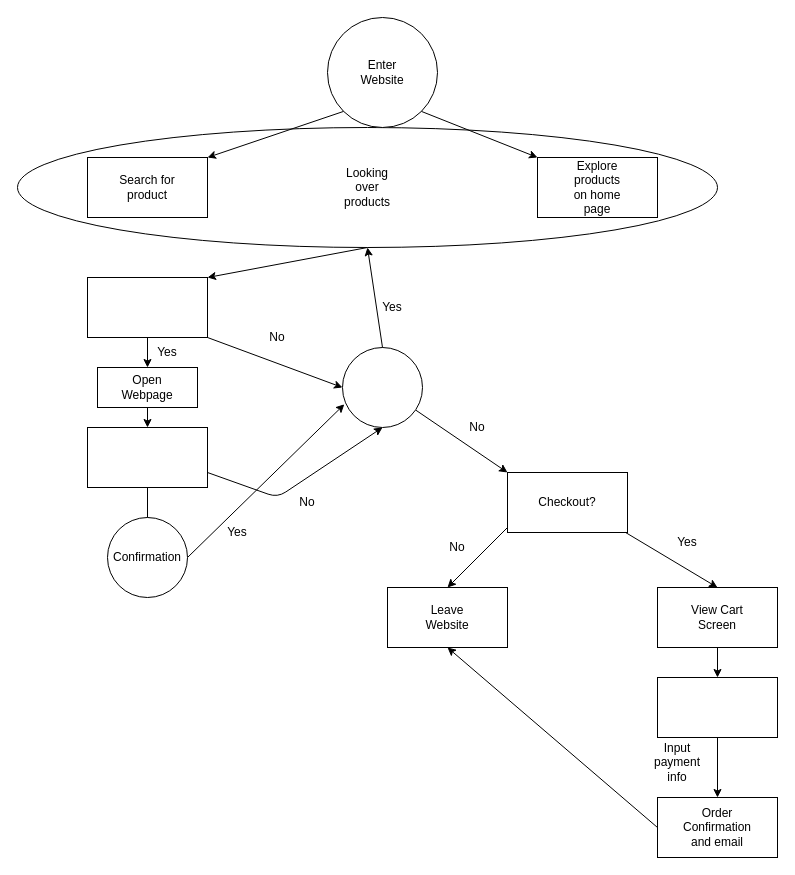
Some shapes in this 795 by 875 pixel diagram are drawn without their labels. The shapes that lost their labels are listed below. From the top down, each one's centre as x and y in pixels, then its label:
At (x=147, y=307): "View Specific Product?".
At (x=382, y=387): "Keep Shopping?".
At (x=147, y=457): "Add item to cart".
At (x=717, y=707): "View payment Screen".
